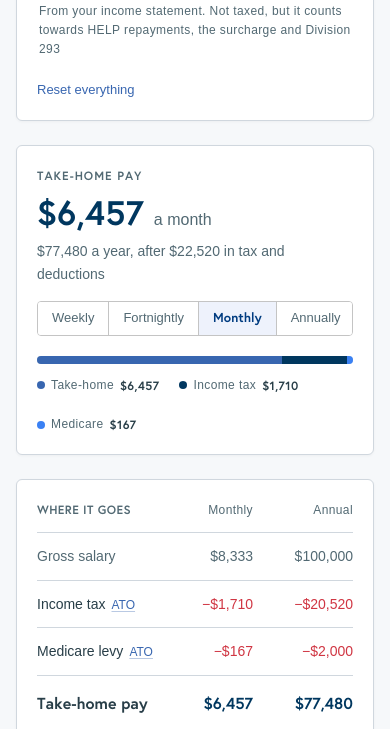
Test: App › carries each mode's headline figure in the phone result bar
(page scrolled)
Click the button "Weekly". click: click(73, 318)
box: top-left (38, 302), bottom-right (108, 335)
(page scrolled)
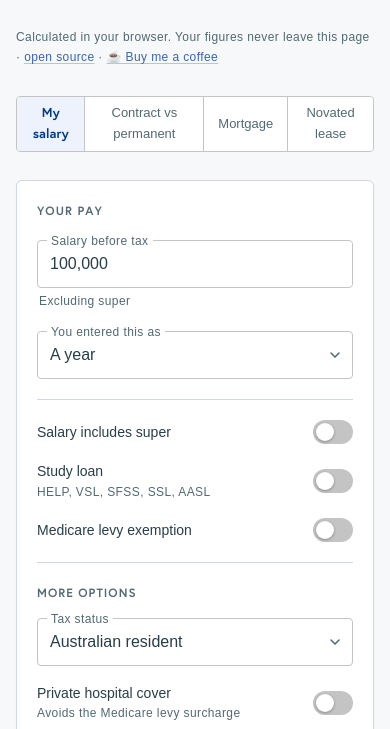
Click the button "Contract vs permanent". click: click(144, 124)
box: top-left (84, 97), bottom-right (203, 151)
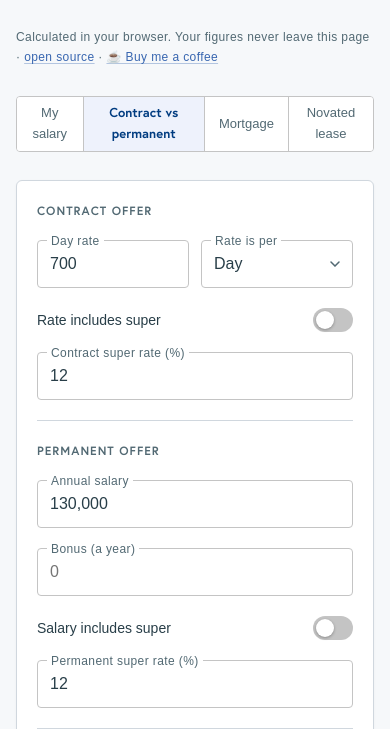
Click the button "Mortgage". click: click(246, 124)
box: top-left (204, 97), bottom-right (288, 151)
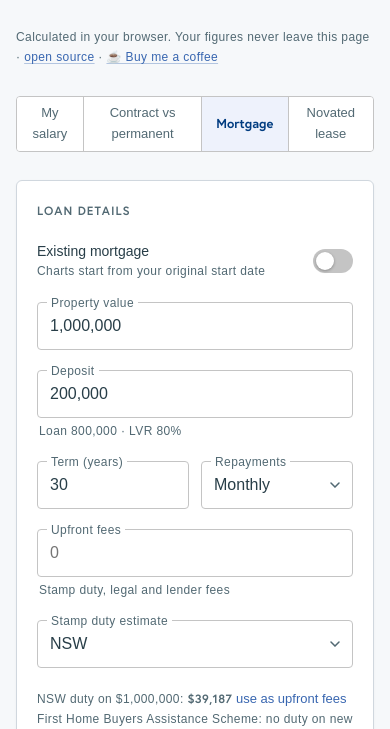
Click the button "Novated lease". click: click(330, 124)
box: top-left (288, 97), bottom-right (373, 151)
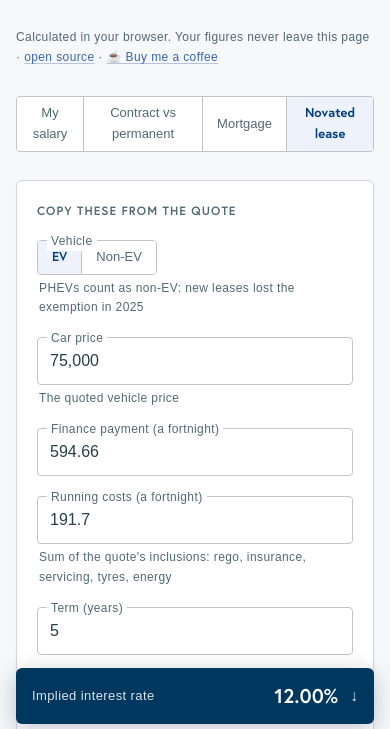
Check: the text "Implied interest rate" is shown, box top-left (32, 688), bottom-right (155, 703)
